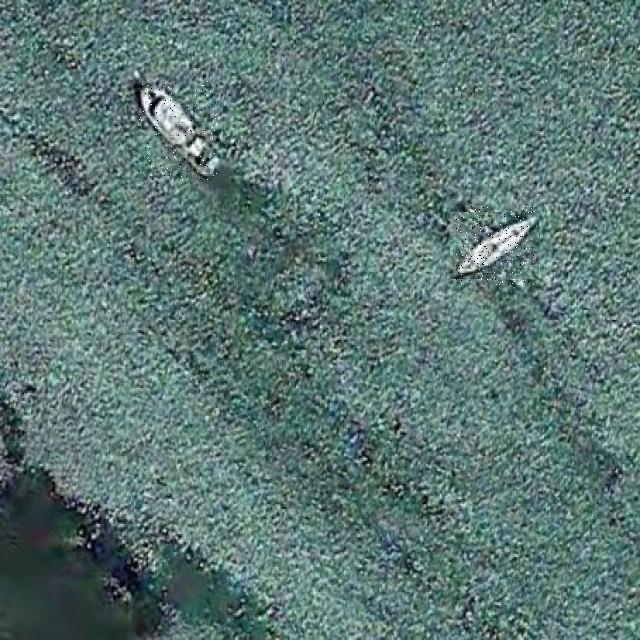boat: (138, 81, 220, 181), (456, 206, 534, 285)
